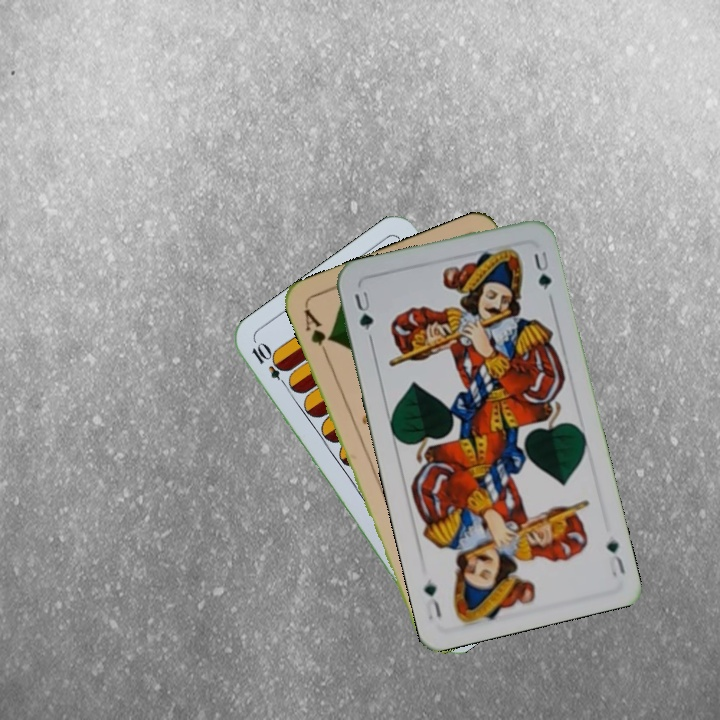E10: (247, 339, 293, 391)
GA: (300, 305, 335, 360)
GU: (350, 287, 377, 333), (602, 535, 628, 579)
